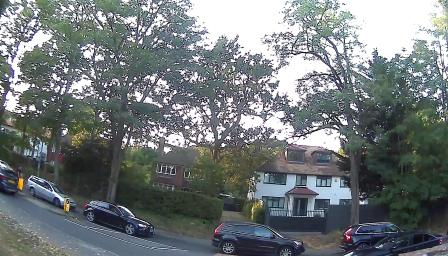Cars: (213, 212, 305, 252), (84, 197, 158, 239), (337, 226, 441, 254), (332, 214, 406, 250), (28, 173, 78, 212), (1, 161, 22, 194)
